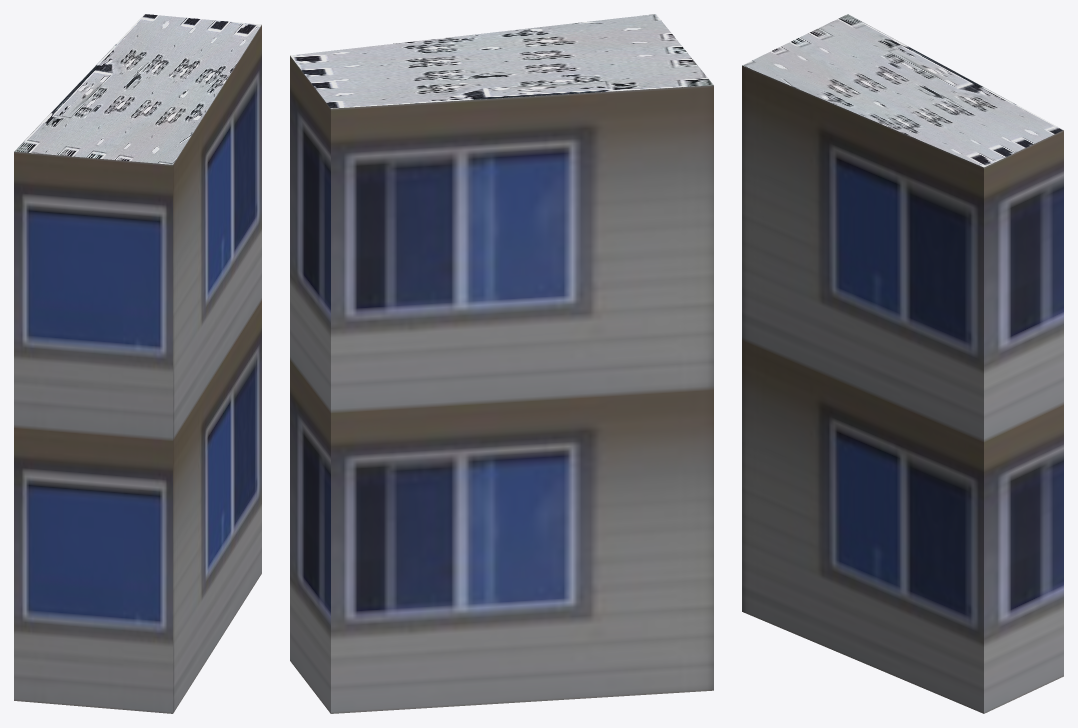
Rendered from ResTex__2494.fbx.
3 renders of one model, left to right at view 1: azimuth 30°, elevation 25°; view 2: azimuth 150°, elevation 25°; view 3: azimuth 270°, elevation 25°, orthographic. The views are drawn at different scales.
Visible parts, largest first — view 1: CityEngineMaterial_23_m, CityEngineMaterial_m; view 2: CityEngineMaterial_23_m, CityEngineMaterial_m; view 3: CityEngineMaterial_23_m, CityEngineMaterial_m.
Boxes of the visible parts, x1=… form: CityEngineMaterial_23_m: x1=14, y1=25, x2=261, y2=713; CityEngineMaterial_m: x1=14, y1=14, x2=261, y2=164; CityEngineMaterial_23_m: x1=290, y1=56, x2=713, y2=713; CityEngineMaterial_m: x1=290, y1=14, x2=713, y2=108; CityEngineMaterial_23_m: x1=742, y1=65, x2=1063, y2=713; CityEngineMaterial_m: x1=742, y1=14, x2=1063, y2=167.
Size of the model in its own units: 3.62 by 6 by 3.2.
2 materials, 2 textured.
